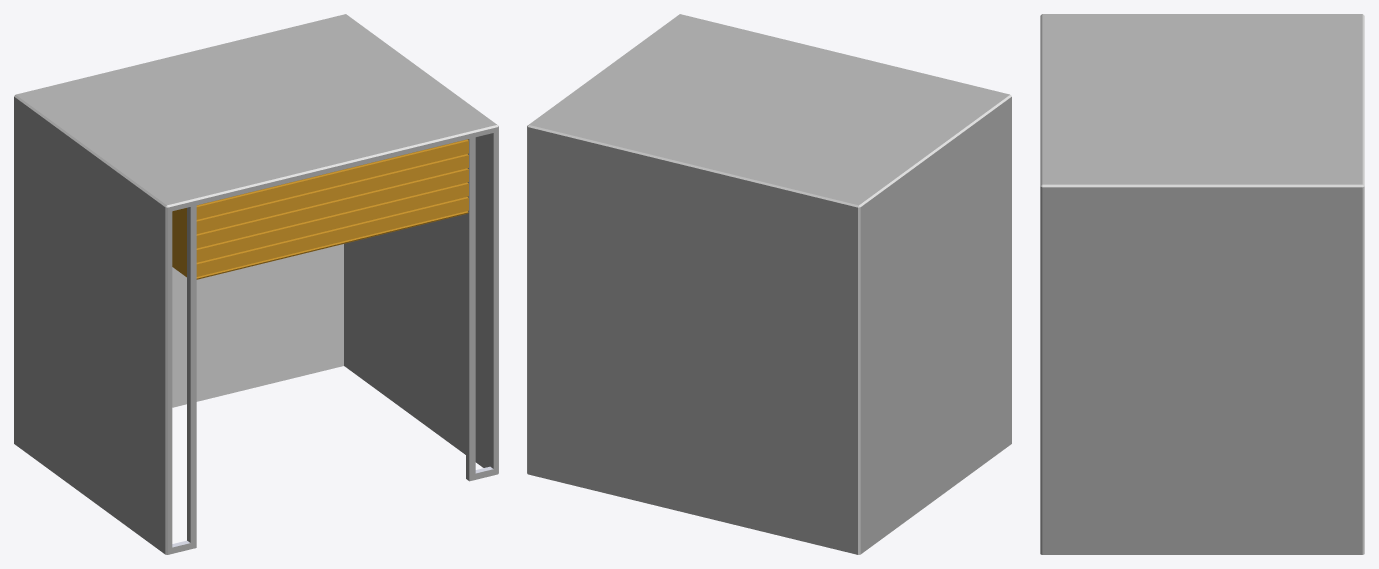
The model's file is Kucica_za_punjenje.dae.
3 views of the same model, side by side, from view 1: azimuth 30°, elevation 25°; view 2: azimuth 150°, elevation 25°; view 3: azimuth 270°, elevation 25° (orthographic). The views are drawn at different scales.
Parts seen in each view (by area): view 1: Kucica_za_punjenje; view 2: Kucica_za_punjenje; view 3: Kucica_za_punjenje.
Boxes of the visible parts, x1,y1,x2,y2 form: Kucica_za_punjenje: (14,14,498,554); Kucica_za_punjenje: (527,14,1011,554); Kucica_za_punjenje: (1040,14,1364,554).
Size of the model in its own units: 2.2 by 1.75 by 2.2.
